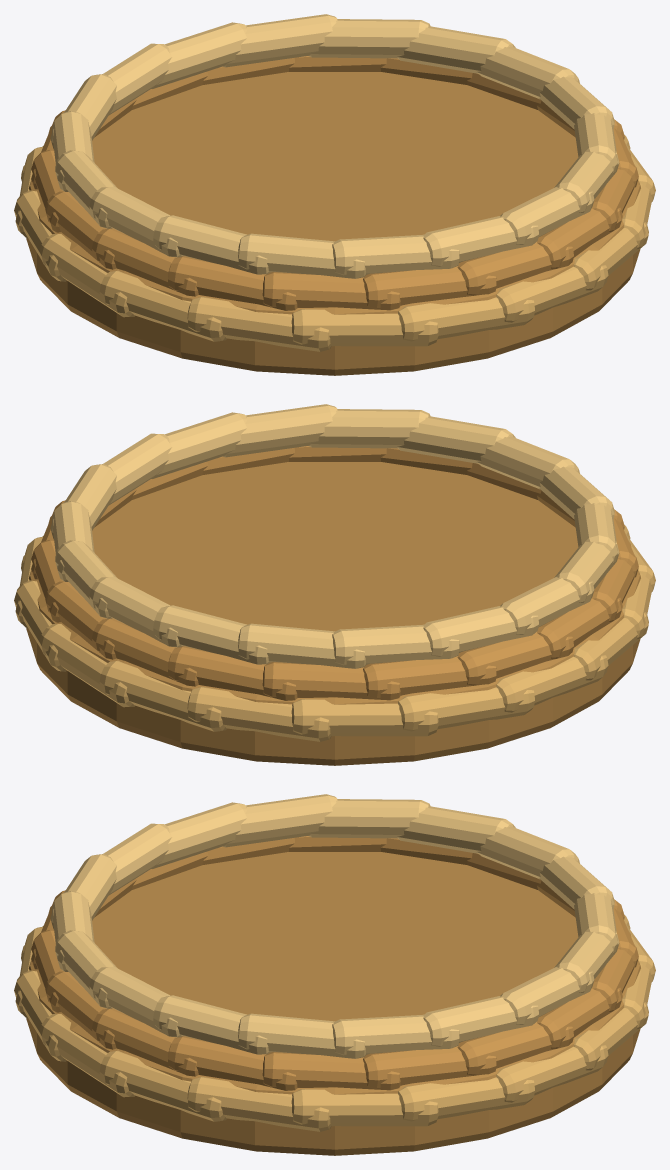
File: nest.glb
3 views of the same model, one above another, from view 1: azimuth 30°, elevation 25°; view 2: azimuth 150°, elevation 25°; view 3: azimuth 270°, elevation 25° (orthographic).
Parts seen in each view (by area): view 1: Bedding, Woven straw.005, Woven straw.006, Woven straw.004, Woven straw.050, Woven straw.041, Woven straw.040, Woven straw.049, Woven straw.023, Woven straw.022, Woven straw.042, Woven straw.024 (+32 smaller); view 2: Bedding, Woven straw.011, Woven straw.012, Woven straw.010, Woven straw.038, Woven straw.047, Woven straw.046, Woven straw.037, Woven straw.029, Woven straw.028, Woven straw.048, Woven straw.030 (+32 smaller); view 3: Bedding, Woven straw.017, Woven straw, Woven straw.016, Woven straw.044, Woven straw.053, Woven straw.052, Woven straw.043, Woven straw.035, Woven straw.034, Woven straw.036, Woven straw.018 (+32 smaller).
Part boxes in pixels (bbox=[...]): Bedding: bbox=[26, 72, 640, 375]; Woven straw.005: bbox=[291, 309, 438, 346]; Woven straw.006: bbox=[187, 296, 331, 351]; Woven straw.004: bbox=[398, 297, 534, 341]; Woven straw.050: bbox=[309, 19, 430, 58]; Woven straw.041: bbox=[238, 233, 366, 278]; Woven straw.040: bbox=[332, 234, 459, 275]; Woven straw.049: bbox=[223, 14, 337, 67]; Woven straw.023: bbox=[262, 272, 400, 310]; Woven straw.022: bbox=[363, 266, 496, 308]; Woven straw.042: bbox=[153, 215, 269, 274]; Woven straw.024: bbox=[168, 256, 297, 310]; Bedding: bbox=[26, 462, 640, 765]; Woven straw.011: bbox=[291, 699, 438, 736]; Woven straw.012: bbox=[187, 686, 331, 741]; Woven straw.010: bbox=[398, 687, 534, 731]; Woven straw.038: bbox=[309, 409, 430, 448]; Woven straw.047: bbox=[238, 623, 366, 668]; Woven straw.046: bbox=[332, 624, 459, 665]; Woven straw.037: bbox=[223, 404, 337, 457]; Woven straw.029: bbox=[262, 662, 400, 700]; Woven straw.028: bbox=[363, 656, 496, 698]; Woven straw.048: bbox=[153, 605, 269, 664]; Woven straw.030: bbox=[168, 646, 297, 700]; Bedding: bbox=[26, 852, 640, 1155]; Woven straw.017: bbox=[291, 1089, 438, 1126]; Woven straw: bbox=[187, 1076, 331, 1131]; Woven straw.016: bbox=[398, 1077, 534, 1121]; Woven straw.044: bbox=[309, 799, 430, 838]; Woven straw.053: bbox=[238, 1013, 366, 1058]; Woven straw.052: bbox=[332, 1014, 459, 1055]; Woven straw.043: bbox=[223, 794, 337, 847]; Woven straw.035: bbox=[262, 1052, 400, 1090]; Woven straw.034: bbox=[363, 1046, 496, 1088]; Woven straw.036: bbox=[153, 995, 269, 1054]; Woven straw.018: bbox=[168, 1036, 297, 1090].
Size of the model in its own units: 2.15 by 0.4481 by 2.14.
